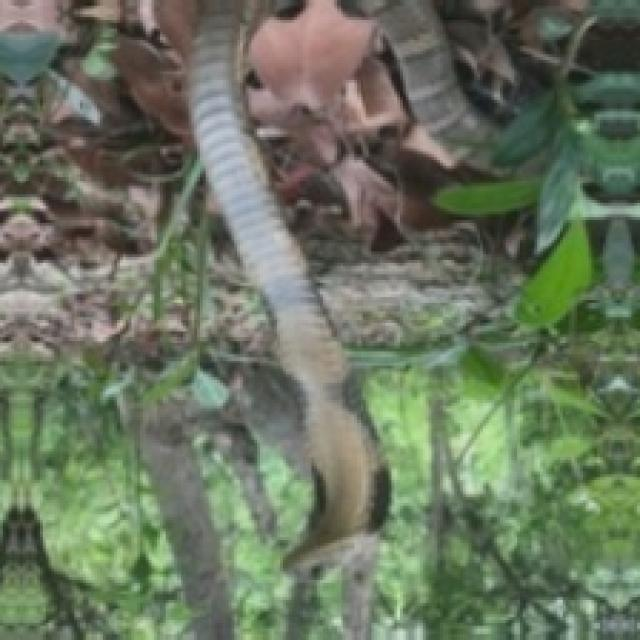king cobra: (189, 0, 386, 571)
